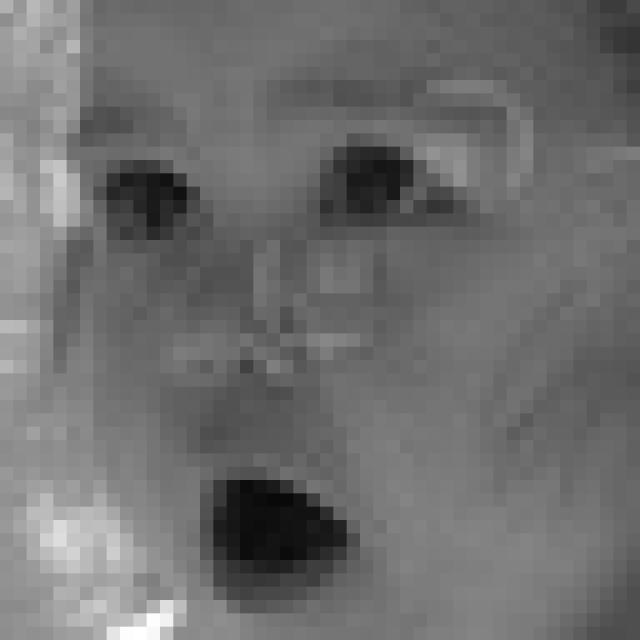surprise: (84, 84, 516, 607)
